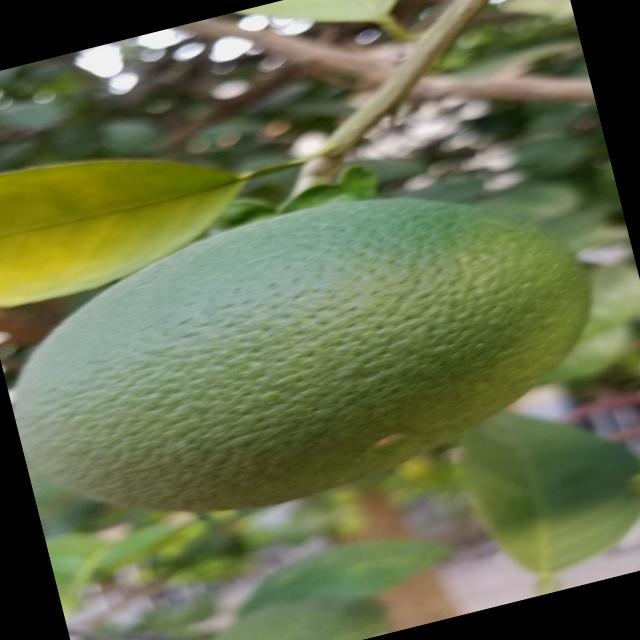agrume: (0, 132, 640, 559)
